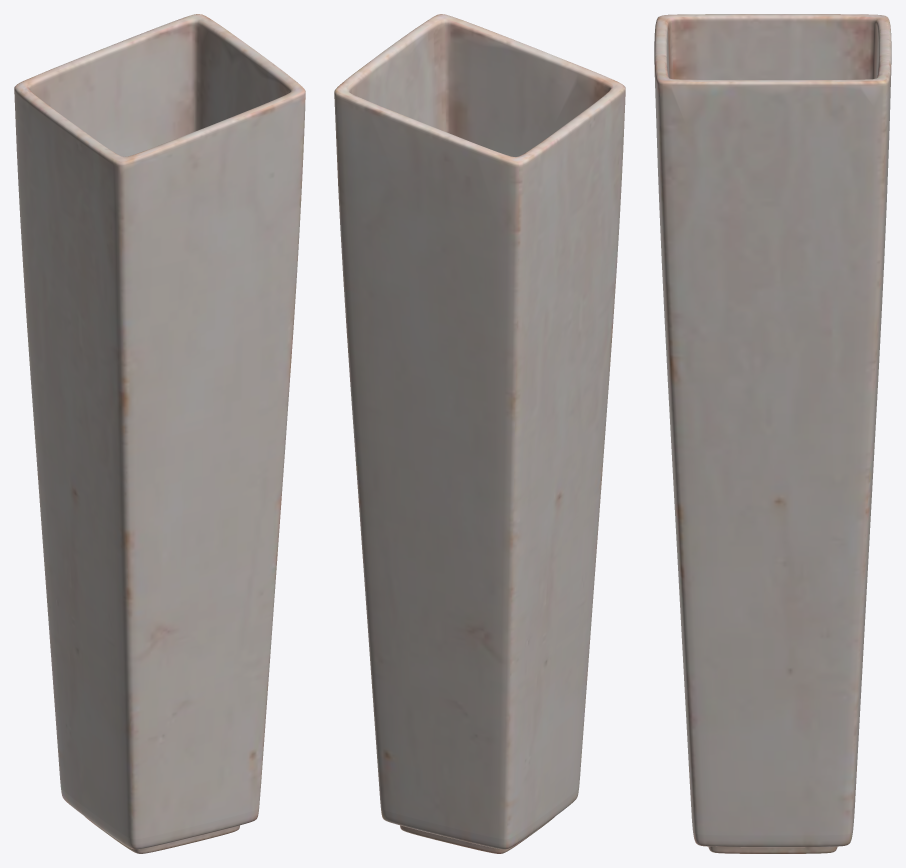
Rendered from ceramic_vase_03.glb.
3 views of the same model, side by side, from view 1: azimuth 30°, elevation 25°; view 2: azimuth 150°, elevation 25°; view 3: azimuth 270°, elevation 25° (orthographic). The views are drawn at different scales.
Parts seen in each view (by area): view 1: ceramic_vase_03; view 2: ceramic_vase_03; view 3: ceramic_vase_03.
Boxes of the visible parts, x1,y1,x2,y2 form: ceramic_vase_03: (14,14,305,853); ceramic_vase_03: (334,14,625,853); ceramic_vase_03: (654,14,891,853).
Size of the model in its own units: 0.1122 by 0.4143 by 0.1122.
1 material, 1 textured.
